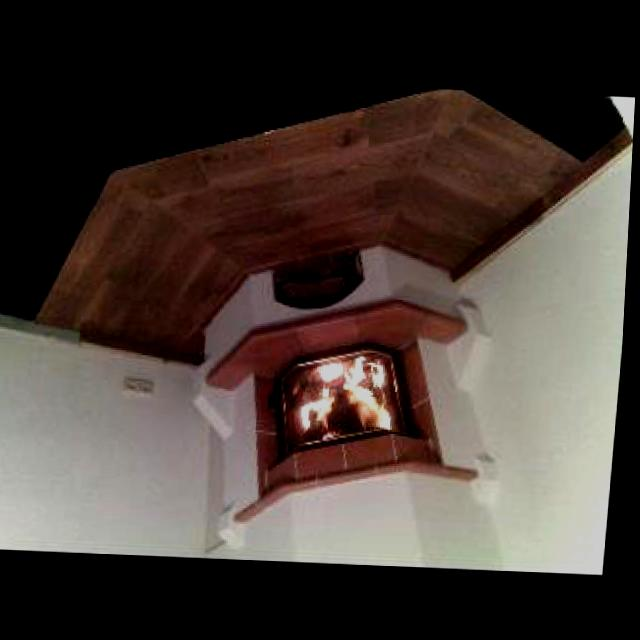helmet: (304, 358, 402, 444)
